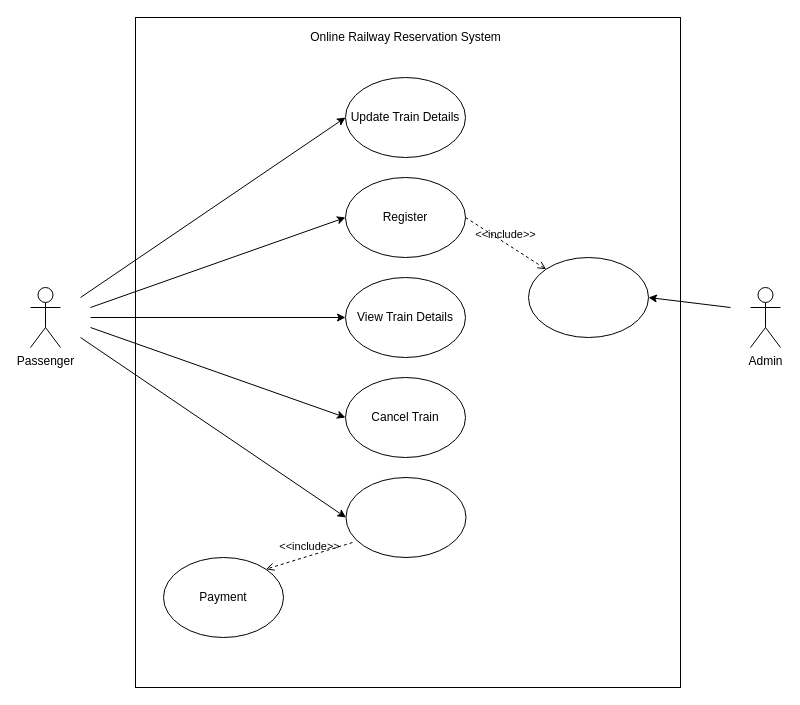
Some shapes in this 800 by 705 pixel diagram are drawn without their labels. The shapes that lost their labels are listed below. From the top down, each one's box as (x1, y1, x2, y2) in pixels, then its label:
(528, 256, 648, 338): Login
(345, 476, 466, 558): Reserve Train
